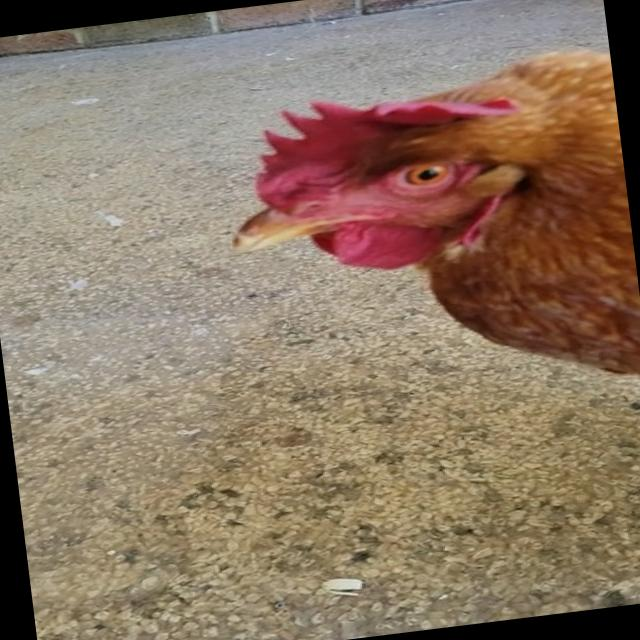Breathing: (211, 43, 640, 427)
